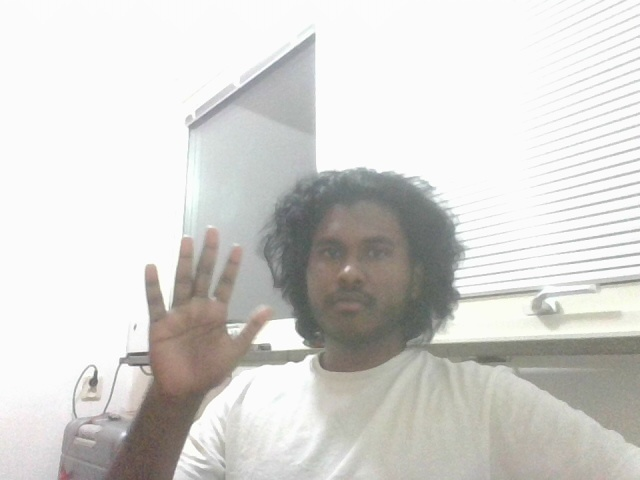hello: (137, 217, 280, 395)
